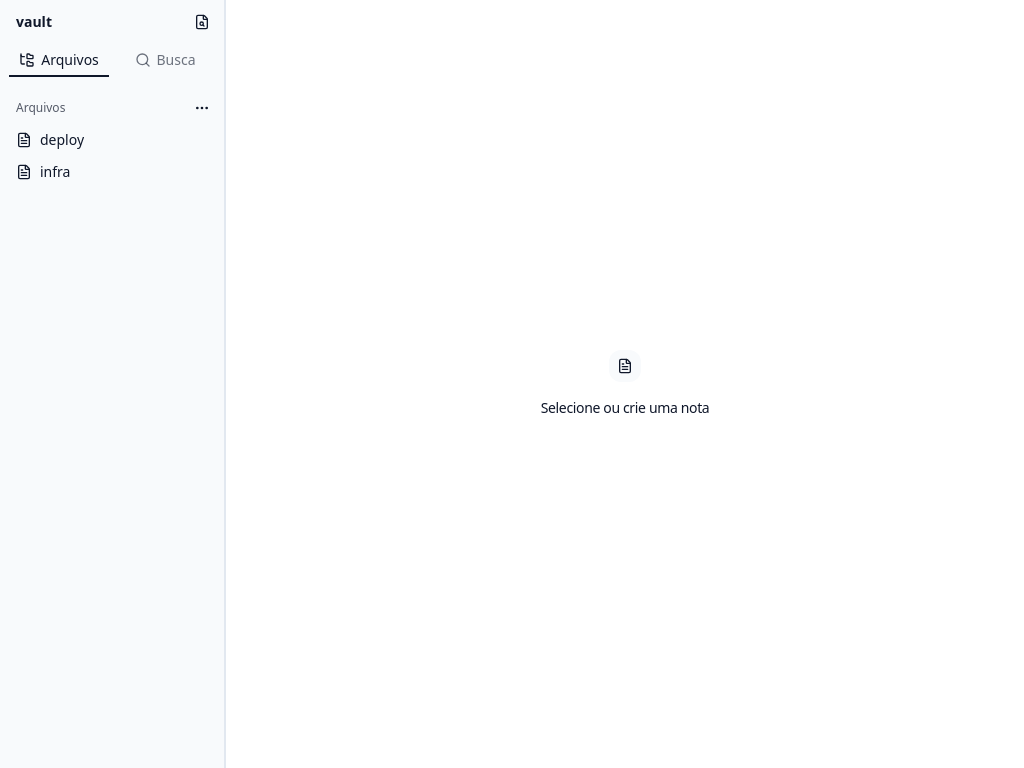
Test: busca rápida no workspace › a edição pendente da nota atual é gravada antes de abrir outra
Expected: the navigation bar named "Arquivos do vault" is shown, [8, 124, 216, 188]
Click the button "deploy" at (112,140), box [8, 124, 216, 156]
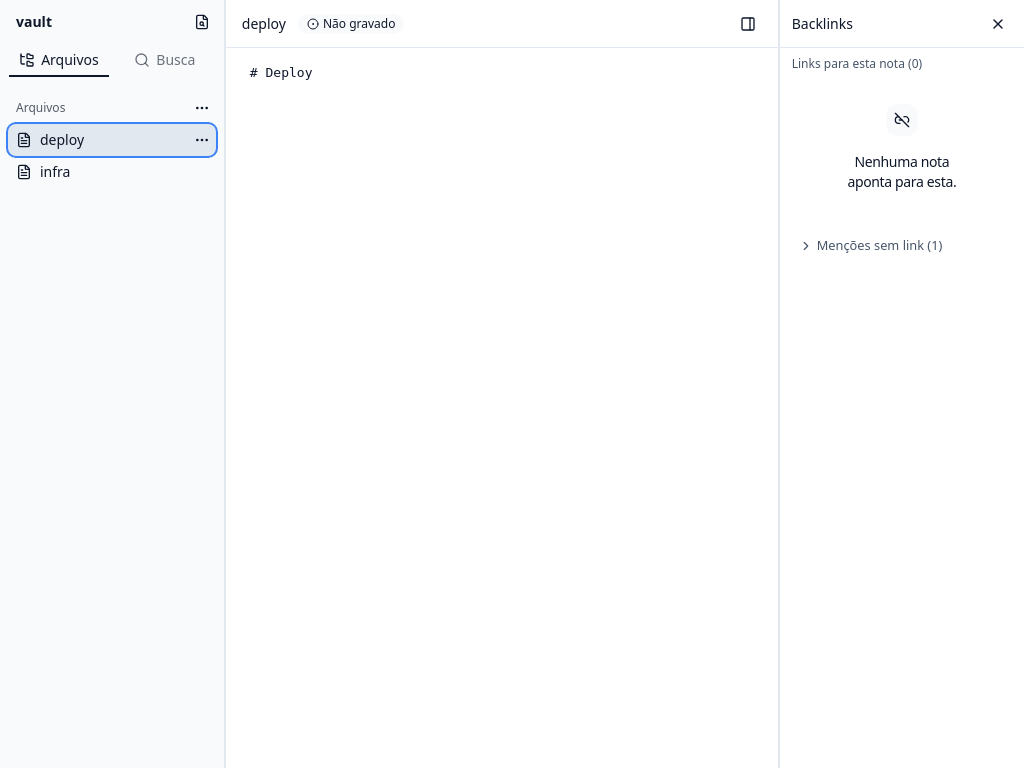
Now the element "deploy" is shown, box [226, 0, 778, 767]
Type keys "{Control>}p{/Control}"
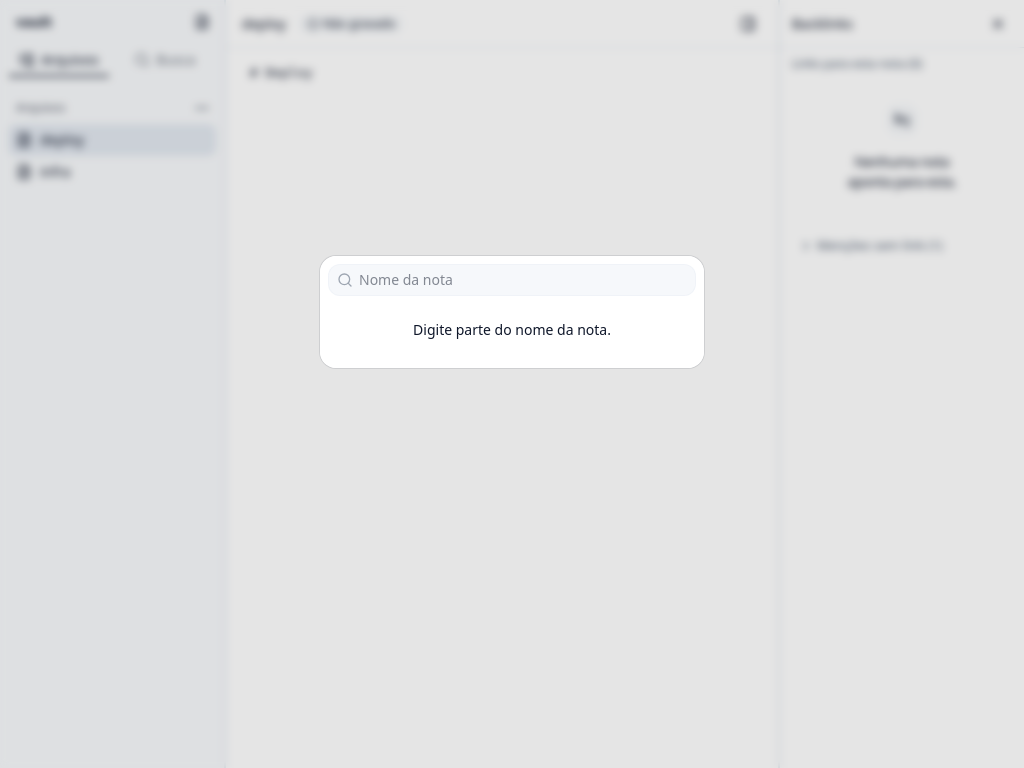
Type "infra" into the dropdown with placeholder "Nome da nota" at (524,280), box [353, 270, 695, 290]
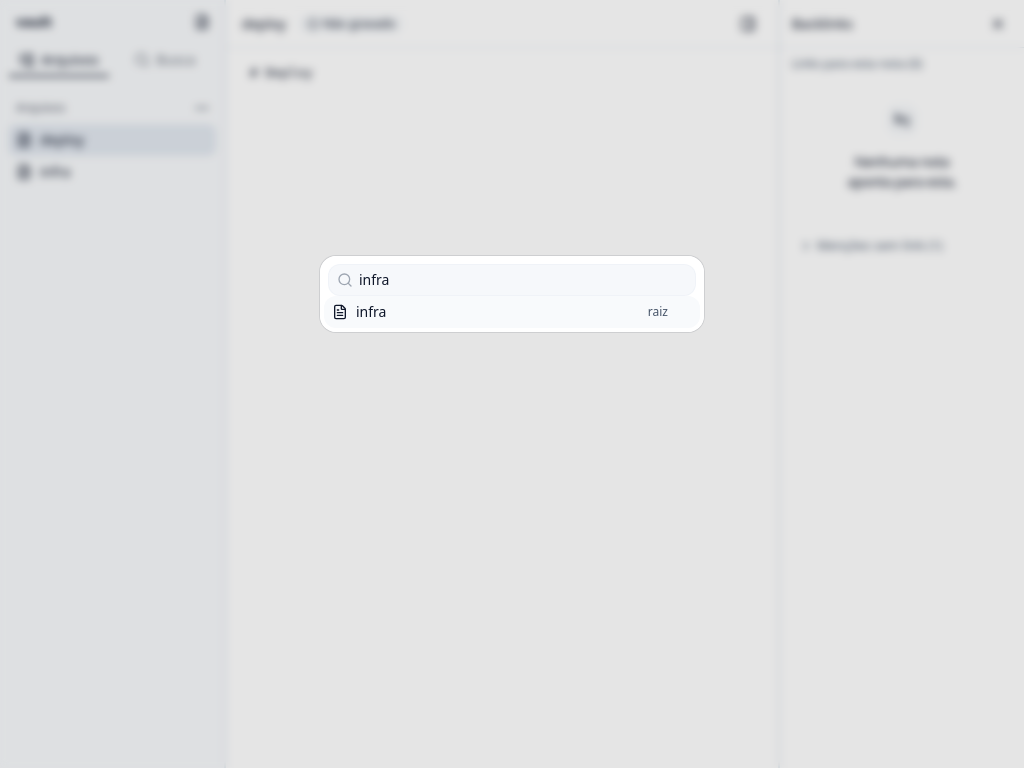
Press Enter
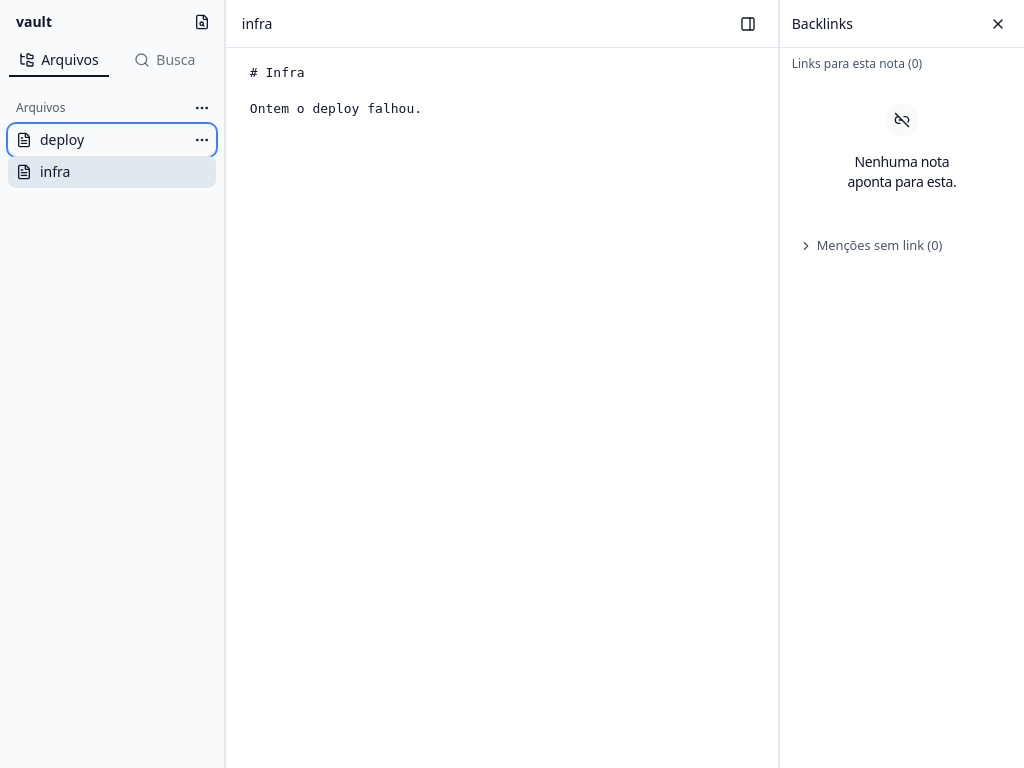
Now the element "infra" is shown, box [226, 0, 778, 767]
